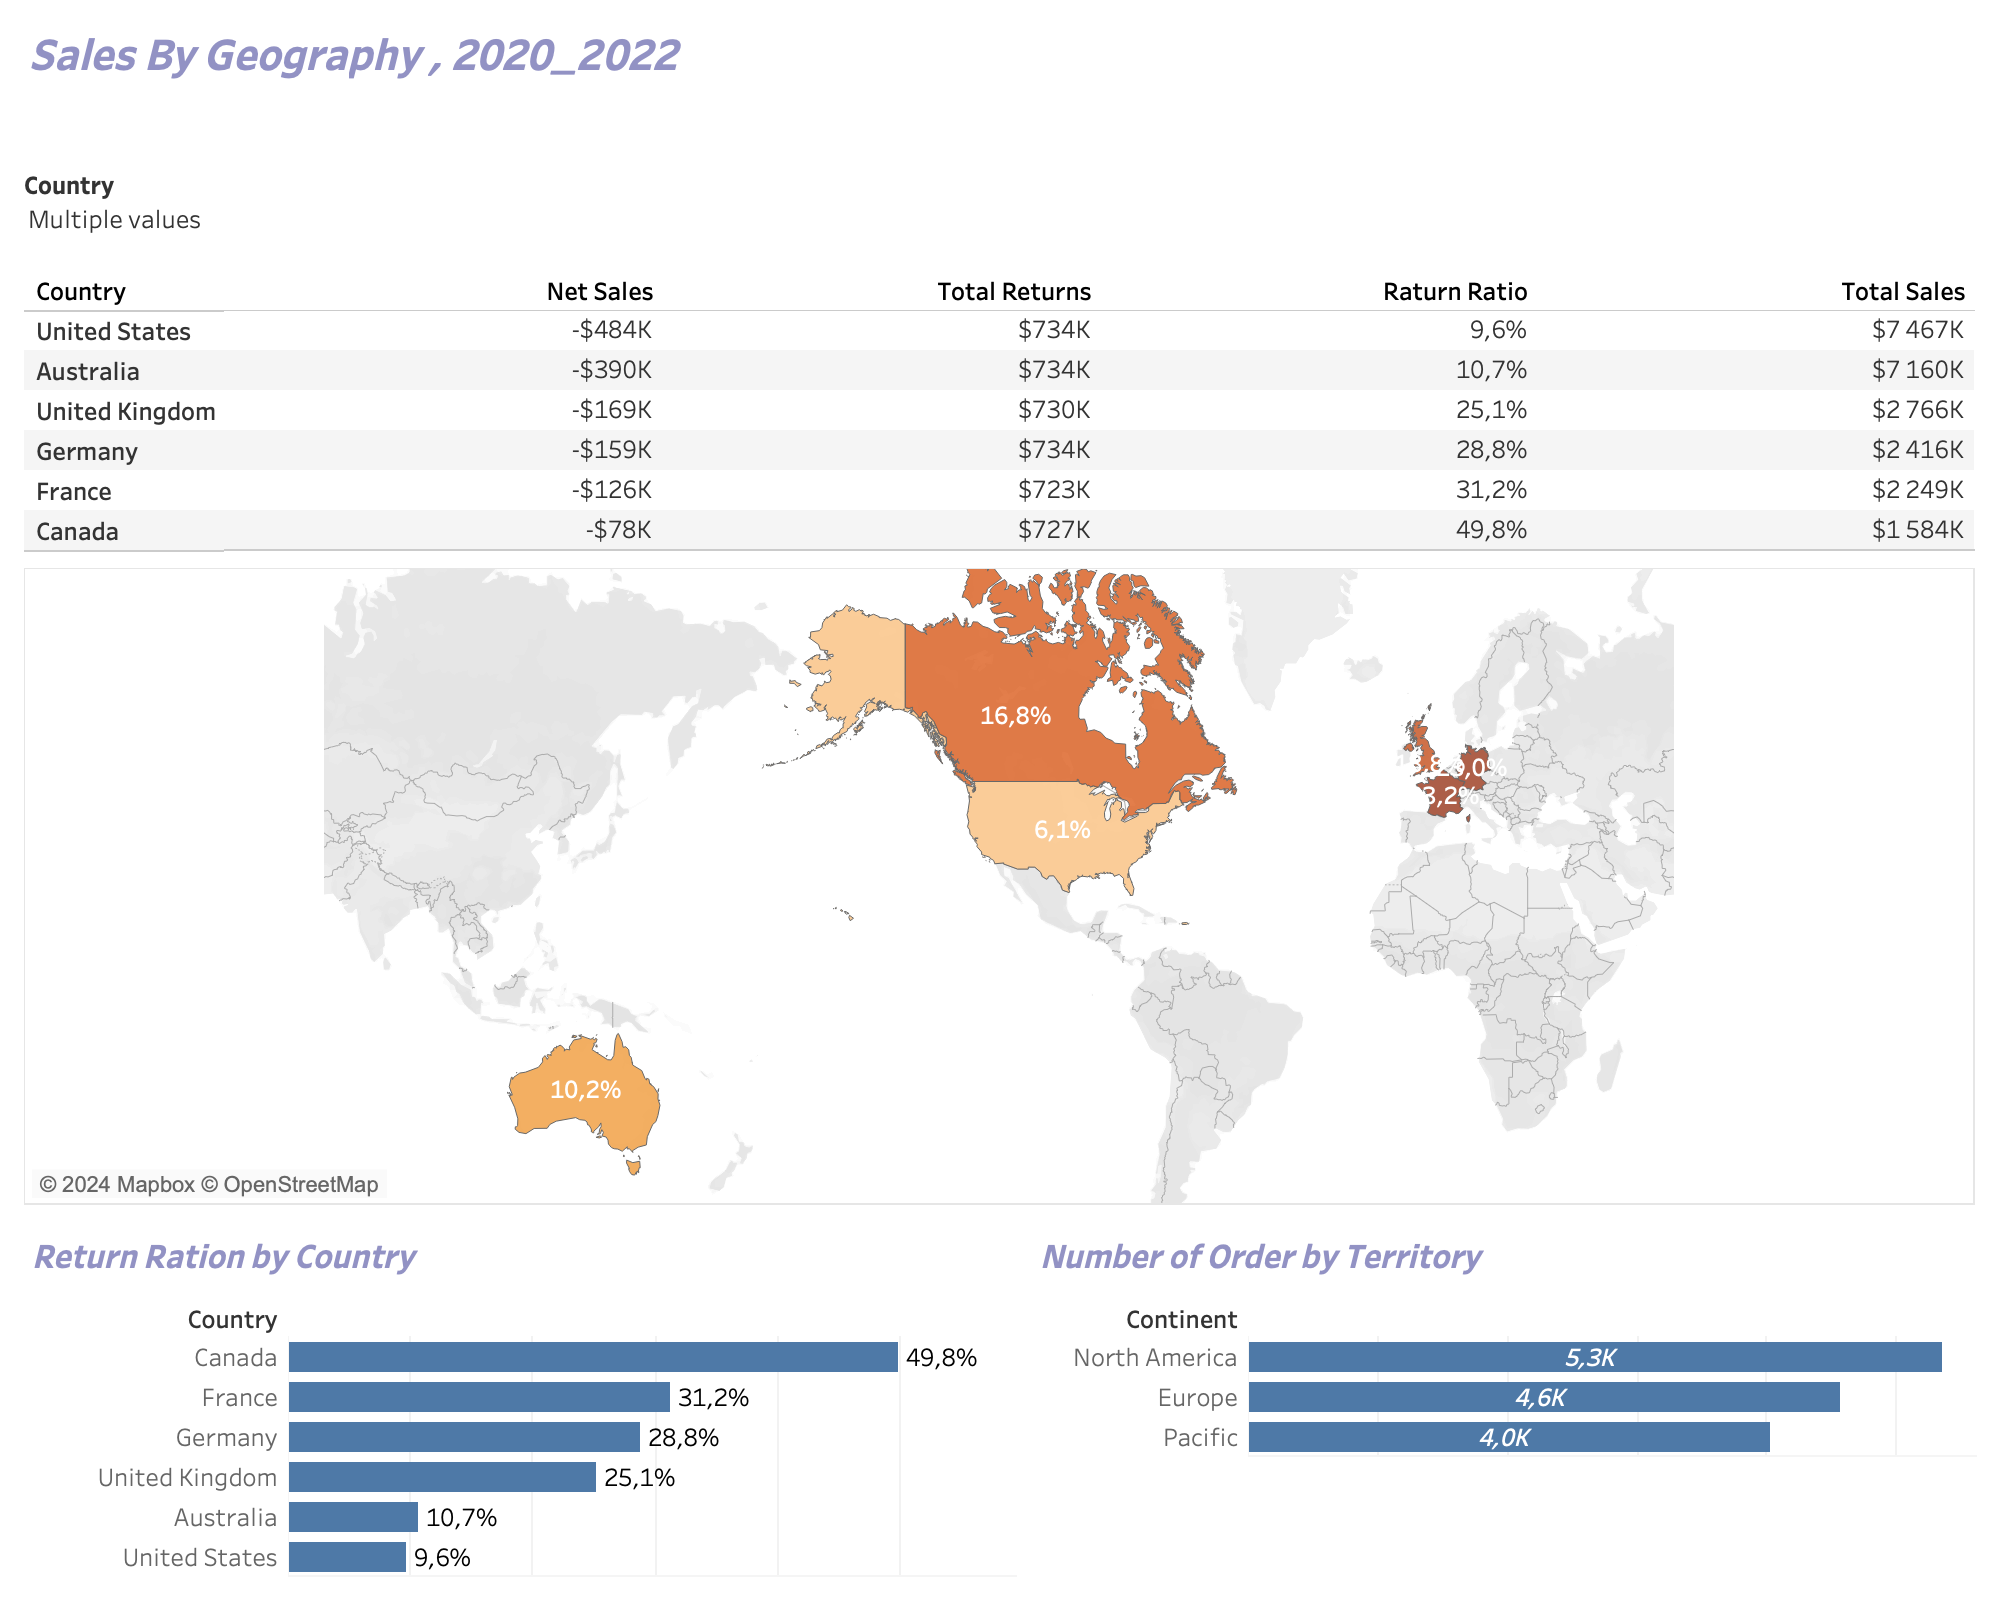

This screenshot's page, from the dashboard's own definition file:
{"tool":"tableau","page":{"name":"Sales By Geography","canvas":[1000,800],"ordinal":3},"visuals":[{"type":"title","box":[8,8,984,71]},{"type":"filter","title":"Total Sales by Country","param":"[federated.02h5zo00wipyxw16dx5xf0zimr9n].[none:Country:nk]","box":[8,79,984,52]},{"type":"worksheet","title":"Total Sales by Country","mark":"Automatic","rows":["Country"],"box":[8,131,984,149]},{"type":"worksheet","title":"Profit Ration By Ragoin","mark":"Automatic","box":[8,280,984,327]},{"type":"worksheet","title":"Return Ration by Country","mark":"Automatic","rows":["Country"],"cols":["Calculation_2161868626086121487"],"box":[8,607,504,185]},{"type":"worksheet","title":"Number of Order by Territory","mark":"Automatic","rows":["Continent"],"cols":["OrderQuantity"],"box":[512,607,480,185]}]}

Visuals, with their boxes in screenshot pixels (x1, y1, x2, y2), scaled from the page's 1000x800 canvas onto the 2000x1600 screenshot:
title: region(16, 16, 1984, 158)
"Total Sales by Country" filter: region(16, 158, 1984, 262)
"Total Sales by Country" worksheet: region(16, 262, 1984, 560)
"Profit Ration By Ragoin" worksheet: region(16, 560, 1984, 1214)
"Return Ration by Country" worksheet: region(16, 1214, 1024, 1584)
"Number of Order by Territory" worksheet: region(1024, 1214, 1984, 1584)
